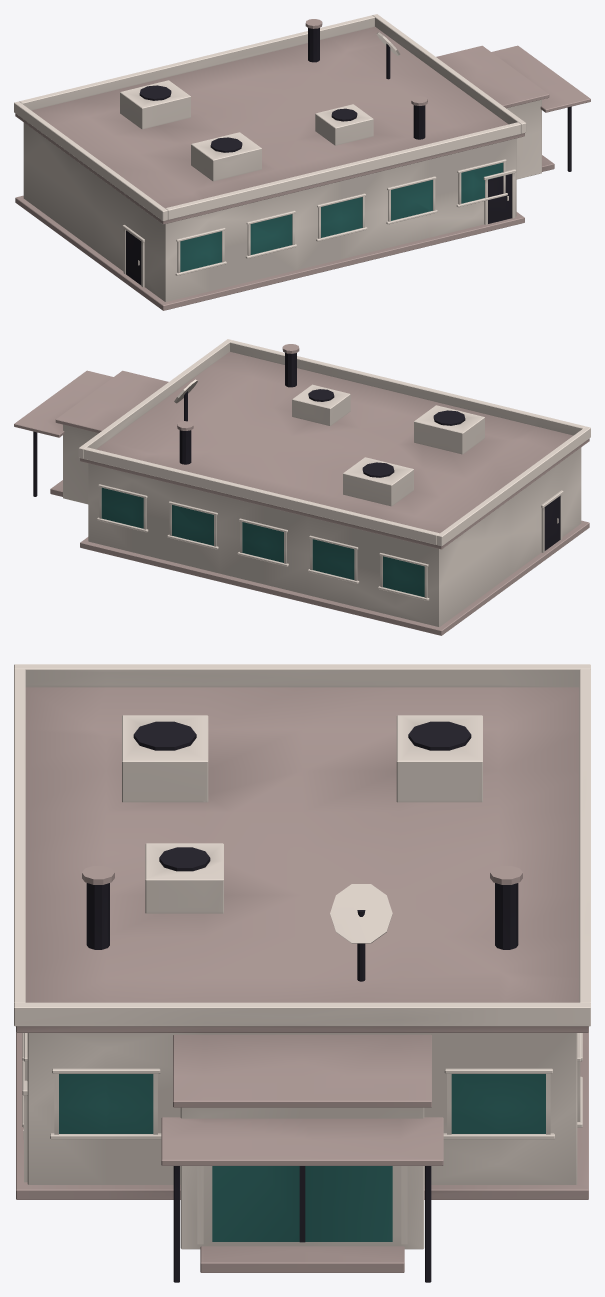
The picture shows the model from 3 angles, top to bottom: view 1: azimuth 30°, elevation 25°; view 2: azimuth 150°, elevation 25°; view 3: azimuth 270°, elevation 25°; orthographic projection. The views are drawn at different scales.
Parts seen in each view (by area): view 1: body_pal_picketWhite, body_pal_sidewalk, body_pal_backpackTeal, body_pal_uiDark; view 2: body_pal_picketWhite, body_pal_sidewalk, body_pal_backpackTeal, body_pal_uiDark; view 3: body_pal_sidewalk, body_pal_picketWhite, body_pal_backpackTeal, body_pal_uiDark.
Boxes of the visible parts, x1,y1,x2,y2 form: body_pal_picketWhite: (14,14,541,301); body_pal_sidewalk: (15,19,590,310); body_pal_backpackTeal: (180,162,503,272); body_pal_uiDark: (126,28,571,285); body_pal_picketWhite: (63,339,590,626); body_pal_sidewalk: (14,344,589,635); body_pal_backpackTeal: (101,487,424,597); body_pal_uiDark: (33,353,560,550); body_pal_sidewalk: (16,687,588,1272); body_pal_picketWhite: (14,664,590,1249); body_pal_backpackTeal: (59,1074,545,1241); body_pal_uiDark: (86,721,518,1282).
Size of the model in its own units: 26.55 by 7.45 by 14.7.
